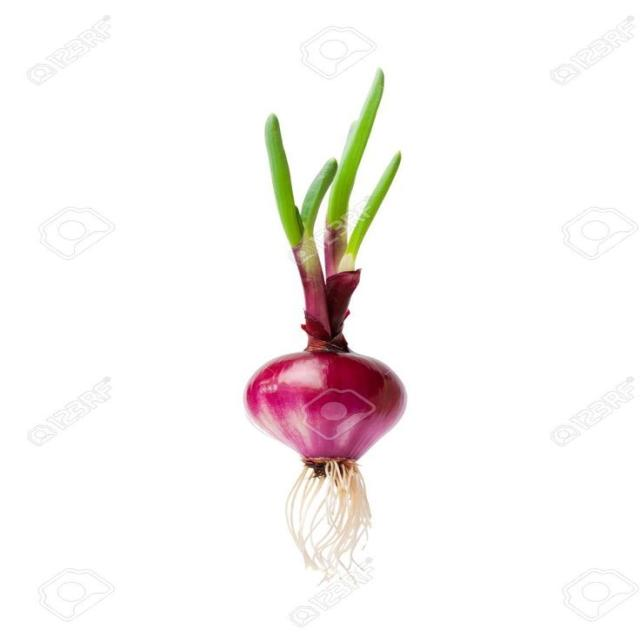sprouting: (144, 30, 578, 517)
